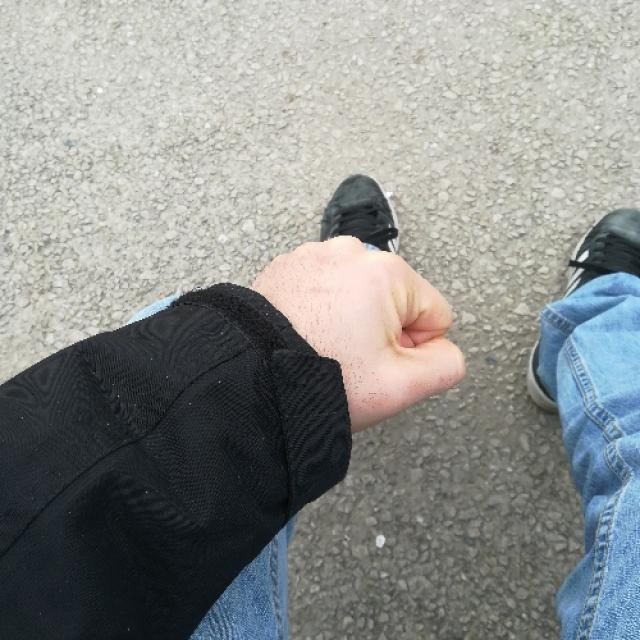rock: (264, 238, 470, 411)
